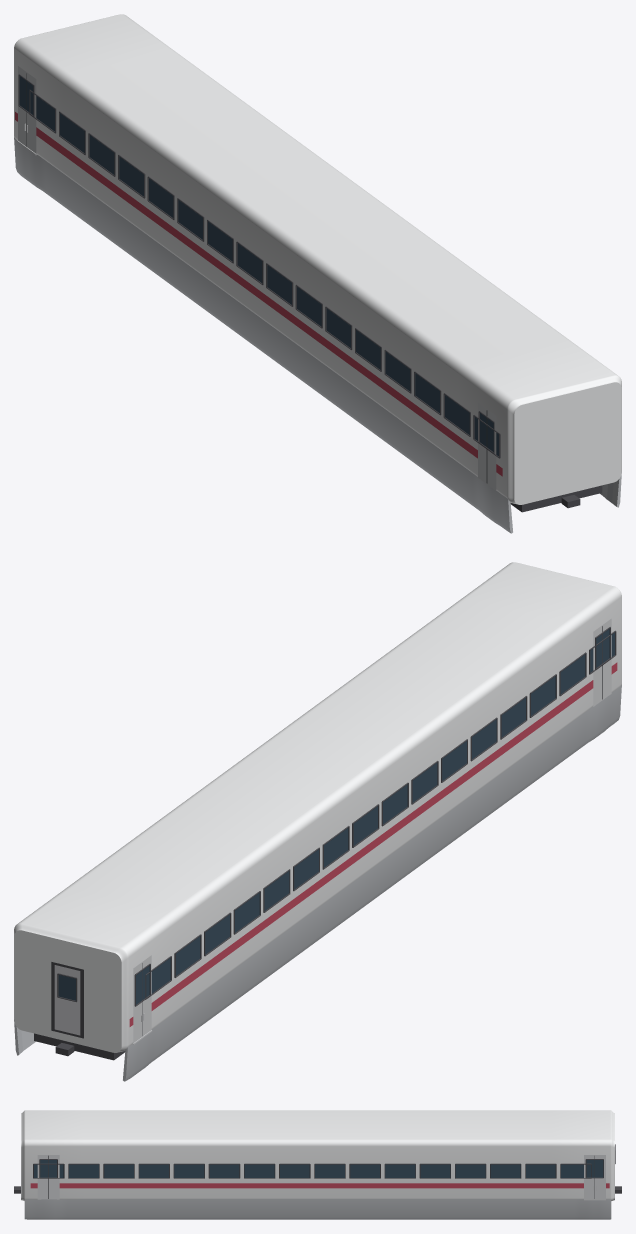
File: 387_close.fbx
The picture shows the model from 3 angles, top to bottom: view 1: azimuth 30°, elevation 25°; view 2: azimuth 150°, elevation 25°; view 3: azimuth 270°, elevation 25°; orthographic projection. The views are drawn at different scales.
Parts seen in each view (by area): view 1: 387_close; view 2: 387_close; view 3: 387_close.
Boxes of the visible parts, x1,y1,x2,y2 form: 387_close: (14,14,621,533); 387_close: (14,562,621,1081); 387_close: (14,1110,621,1219).
Size of the model in its own units: 3.39 by 3.72 by 25.6.
